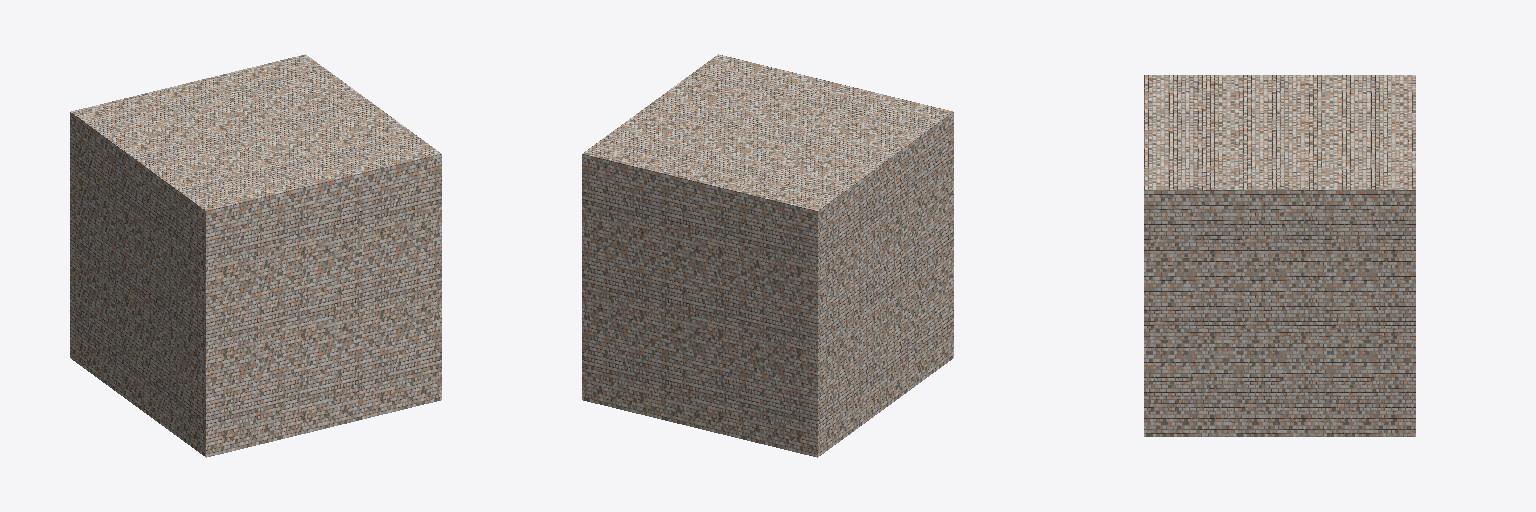
3 renders of one model, left to right at view 1: azimuth 30°, elevation 25°; view 2: azimuth 150°, elevation 25°; view 3: azimuth 270°, elevation 25°, orthographic.
Parts seen in each view (by area): view 1: Box02; view 2: Box02; view 3: Box02.
Boxes of the visible parts, x1=… form: Box02: x1=70, y1=54, x2=441, y2=457; Box02: x1=582, y1=54, x2=953, y2=457; Box02: x1=1144, y1=75, x2=1415, y2=436.
Size of the model in its own units: 3.9 by 3.9 by 3.9.
1 materials, 1 textured.